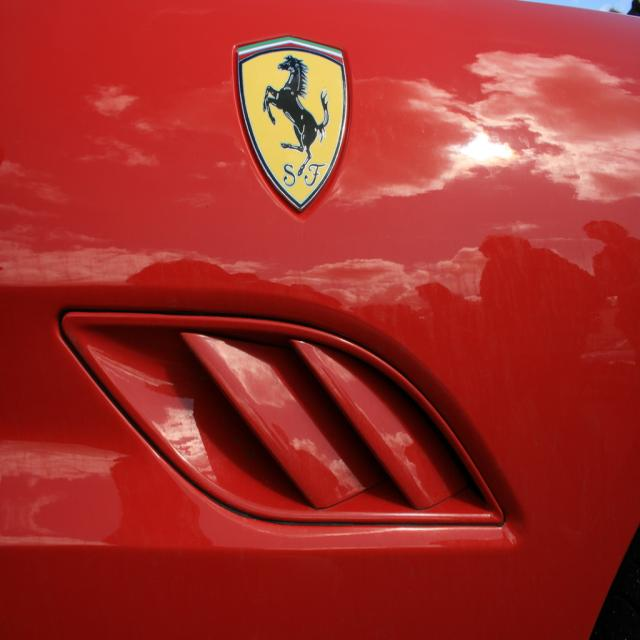car: (30, 45, 587, 625)
